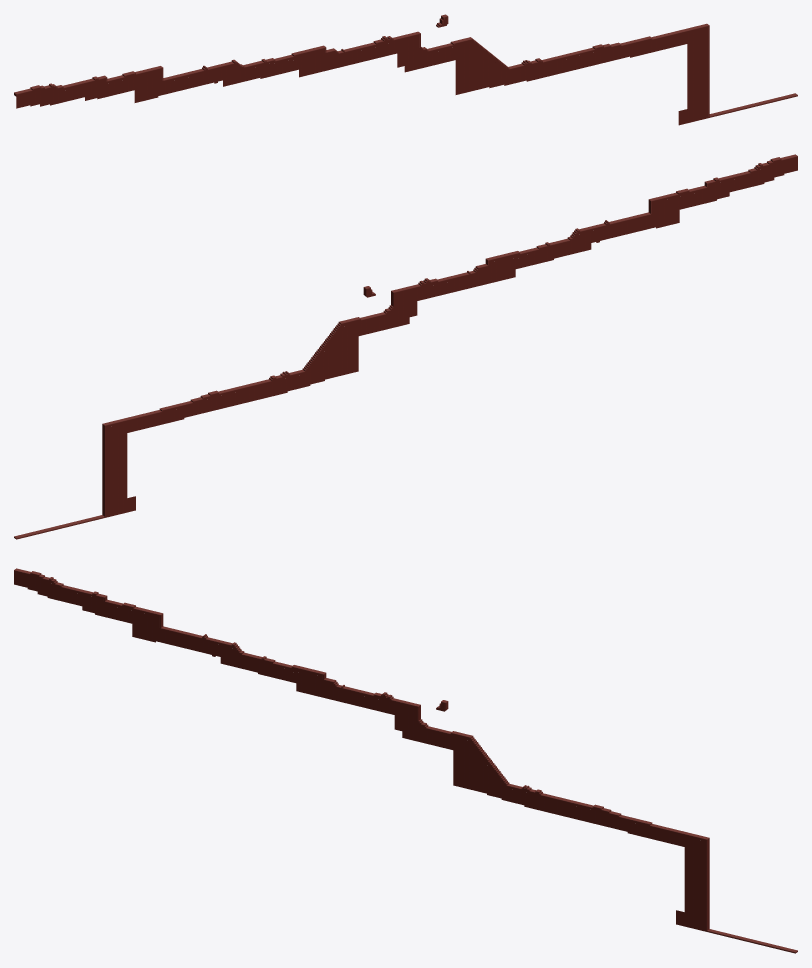
Rendered from Luna5CinzaSoloRev.glb.
3 views of the same model, one above another, from view 1: azimuth 30°, elevation 25°; view 2: azimuth 210°, elevation 25°; view 3: azimuth 330°, elevation 25° (orthographic).
Visible parts, largest first — view 1: Setor_27, Setor_18, Setor_17, Setor_26, Setor_15, Setor_5, Setor_19, Setor_11, Setor_16, Setor_12, Setor_4, Setor_8 (+16 smaller); view 2: Setor_27, Setor_18, Setor_17, Setor_26, Setor_15, Setor_5, Setor_19, Setor_16; view 3: Setor_27, Setor_18, Setor_17, Setor_26, Setor_15, Setor_5, Setor_19, Setor_16.
Part boxes in pixels (x1,y1,x2,y2): Setor_27: (689,23,715,122); Setor_18: (463,37,490,92); Setor_17: (438,14,465,94); Setor_26: (664,28,690,125); Setor_15: (389,33,415,72); Setor_5: (138,66,165,101); Setor_19: (490,53,516,87); Setor_11: (289,48,316,77); Setor_16: (414,23,440,69); Setor_12: (314,45,341,72); Setor_4: (114,71,140,102); Setor_8: (214,59,241,86); Setor_27: (96,419,123,519); Setor_18: (321,320,348,380); Setor_17: (347,286,373,373); Setor_26: (121,413,148,513); Setor_15: (396,281,423,326); Setor_5: (646,194,673,228); Setor_19: (295,345,323,388); Setor_16: (371,289,398,332); Setor_27: (688,833,715,933); Setor_18: (463,734,490,794); Setor_17: (438,700,464,787); Setor_26: (663,827,690,927); Setor_15: (388,695,415,740); Setor_5: (138,608,165,642); Setor_19: (488,759,516,802); Setor_16: (413,703,440,746).
Bounding box in the file's own units: 801 × 190 × 4.41.
Materials: 1 (1 with a texture image).
